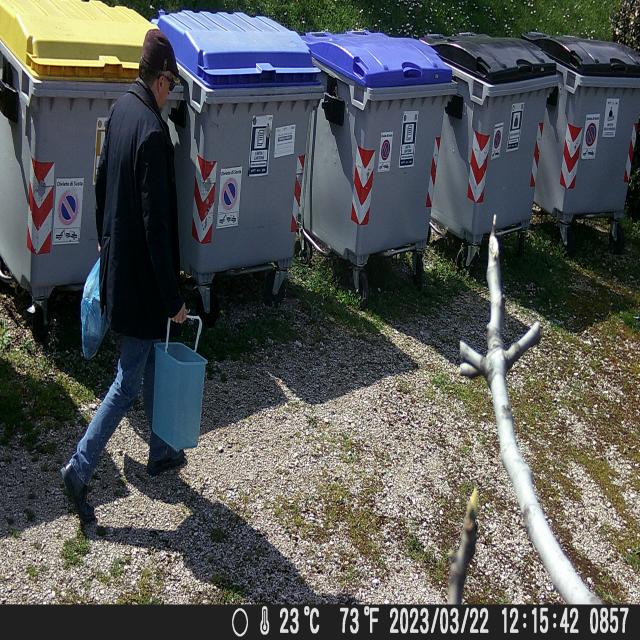sampah-detection: (152, 341, 212, 459), (81, 257, 115, 362)
